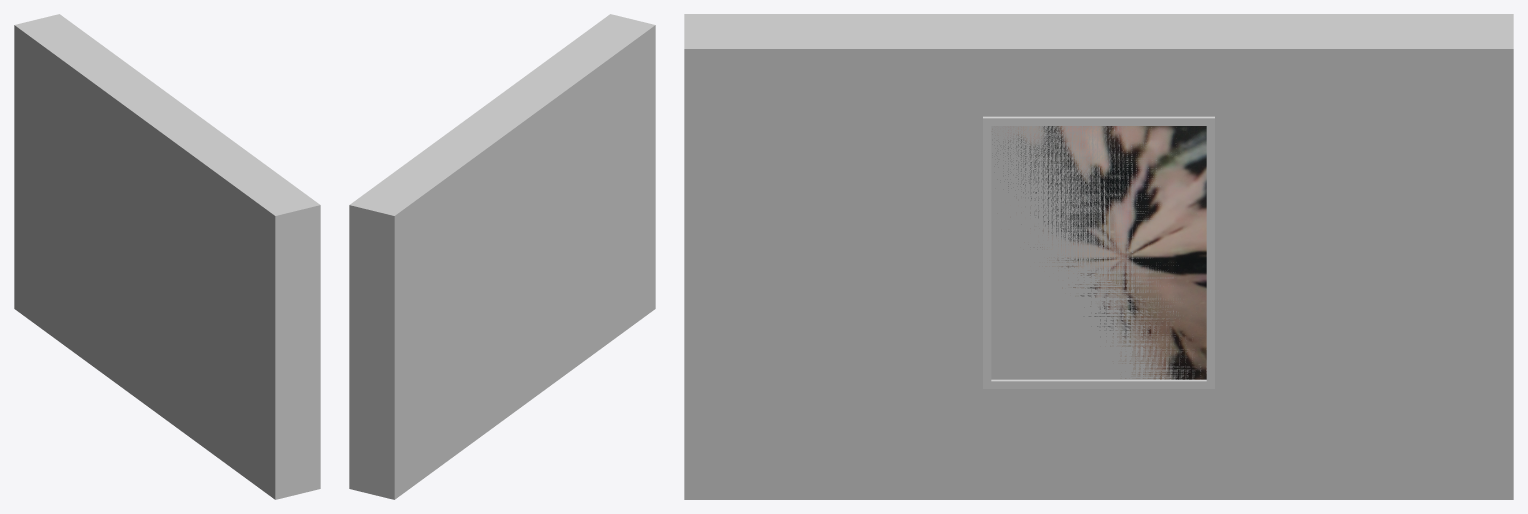
Rendered from wall_pic_vert_5x3x0.5.glb.
The picture shows the model from 3 angles, left to right: view 1: azimuth 30°, elevation 25°; view 2: azimuth 150°, elevation 25°; view 3: azimuth 270°, elevation 25°; orthographic projection. The views are drawn at different scales.
Parts seen in each view (by area): view 1: Cube; view 2: Cube; view 3: Cube, space, Cube.002.
Part boxes in pixels (left/top/right/bottom): Cube: left=14, top=14, right=320, bottom=499; Cube: left=349, top=14, right=655, bottom=499; Cube: left=684, top=14, right=1513, bottom=499; space: left=992, top=126, right=1206, bottom=379; Cube.002: left=983, top=116, right=1214, bottom=388.
Bounding box in the file's own units: 0.525 × 3 × 5.
2 materials, 1 textured.
